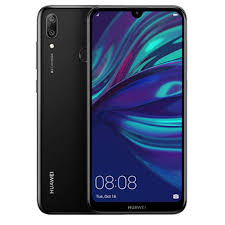huawei: (85, 3, 186, 215)
